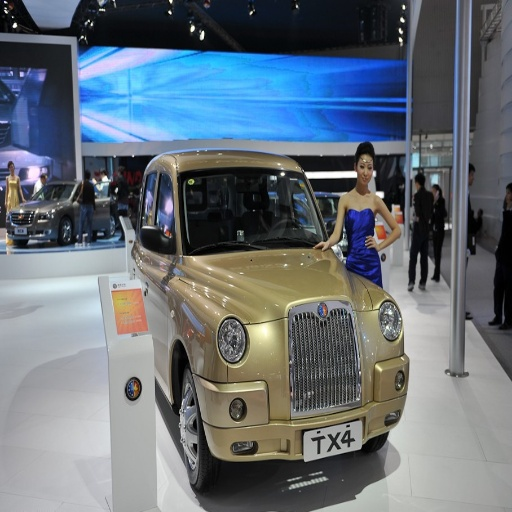front_bumper: (195, 309, 406, 461)
front_right_door: (157, 173, 176, 254)
hood: (168, 245, 372, 339)
trunk: (1, 285, 142, 423), (152, 307, 216, 375)
